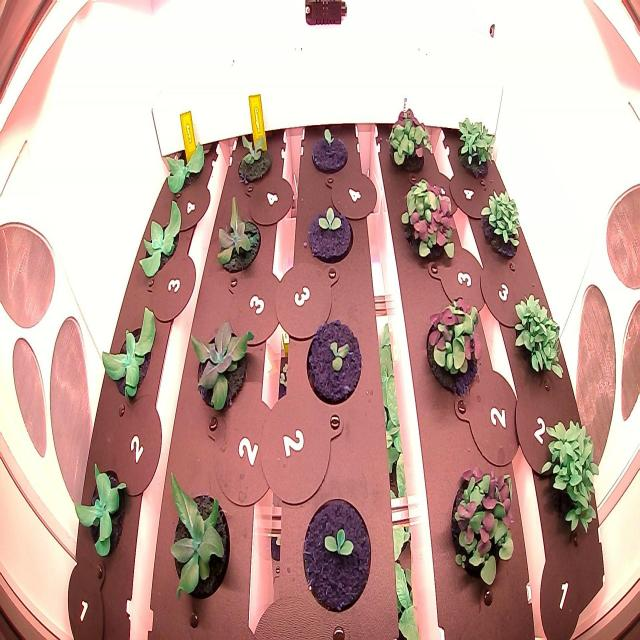germination: (300, 491, 377, 620), (300, 310, 369, 407), (302, 197, 359, 272), (307, 118, 355, 182)
young: (158, 466, 238, 614), (187, 302, 260, 424), (98, 301, 162, 410), (74, 458, 132, 565), (211, 186, 266, 285), (133, 197, 190, 283), (229, 123, 278, 197), (162, 137, 210, 201)
